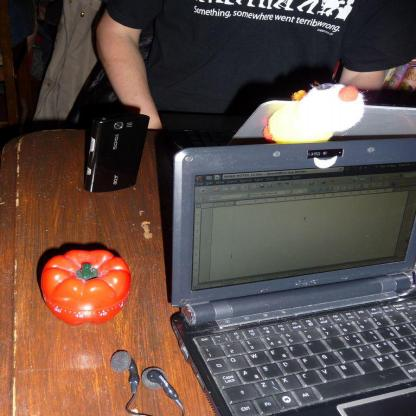board: (160, 120, 416, 416), (160, 97, 416, 152)
